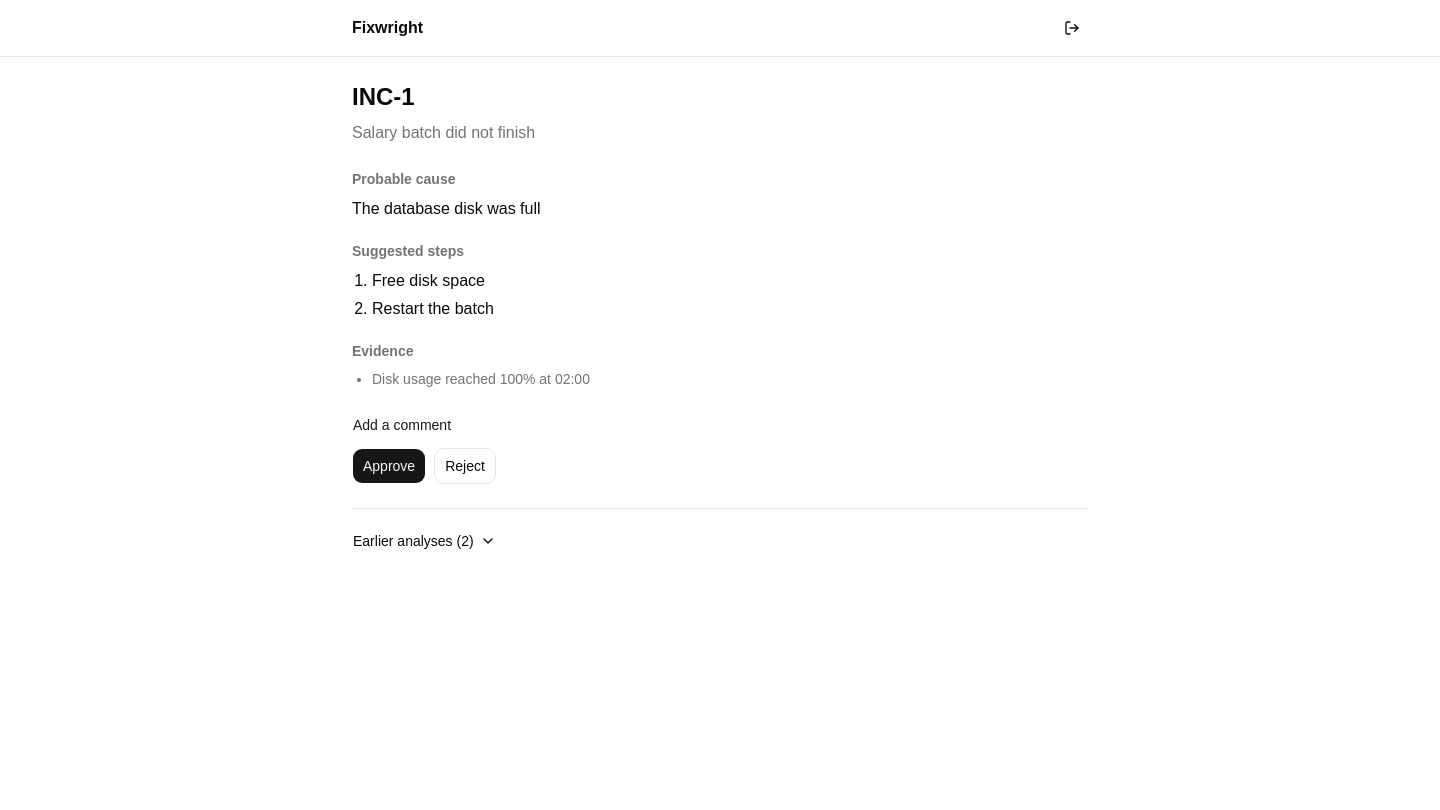
Test: earlier analyses are collapsed
Check: the text "A botnet attack" is not shown
Click the button "Earlier analyses (2)". click: (424, 541)
box: x1=352 y1=525 x2=497 y2=557
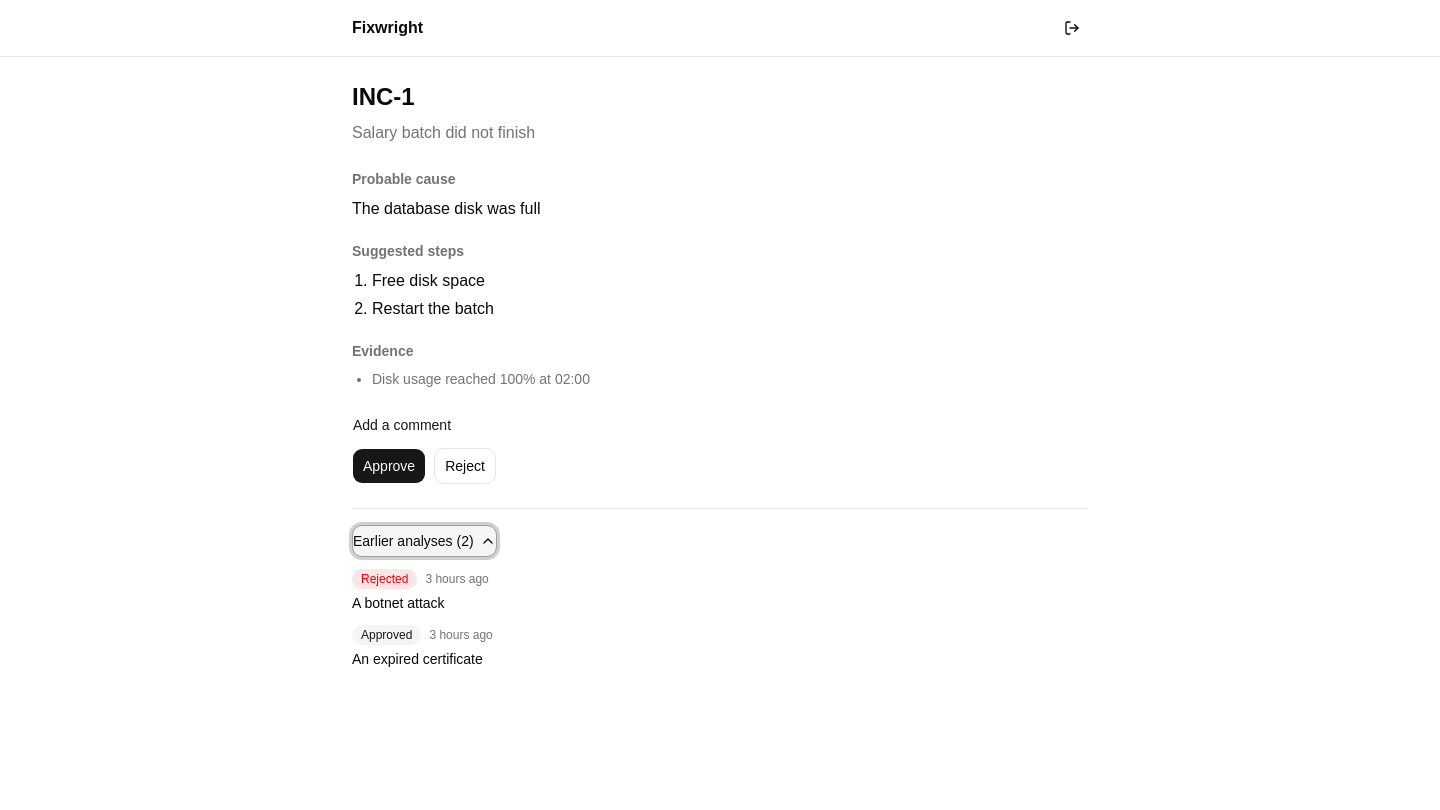
Check: the text "A botnet attack" is shown, box x1=352 y1=595 x2=445 y2=611
Check: the text "An expired certificate" is shown, box x1=352 y1=651 x2=483 y2=667
